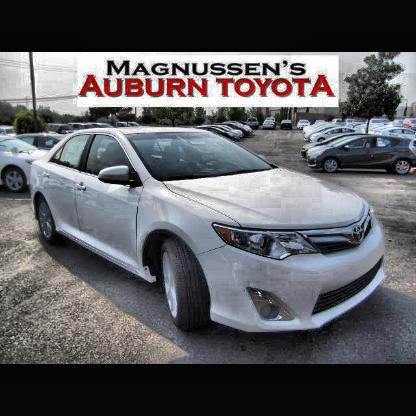Toyota Camry Sedan 2012: (30, 127, 389, 335)
